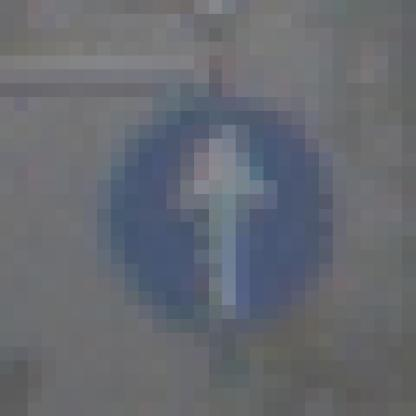AheadOnly: (84, 70, 348, 348)
